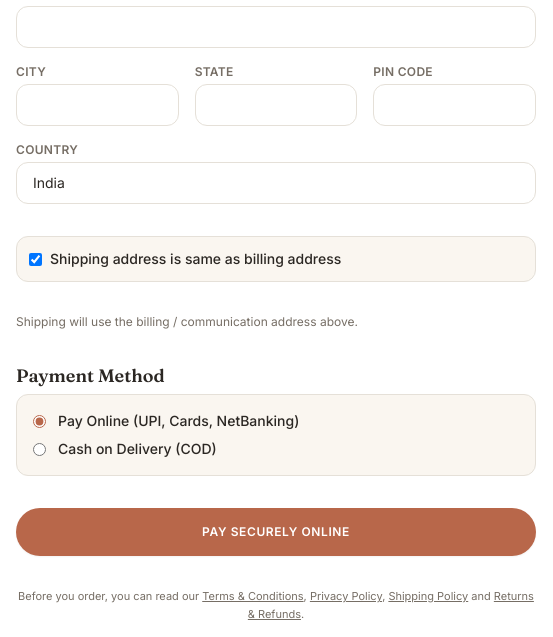
CheckoutPage › shows a validation summary and focuses the first invalid field instead of doing nothing
(page scrolled)
Click the button "Pay Securely Online": (276, 532) [16,508,536,556]
(page scrolled)
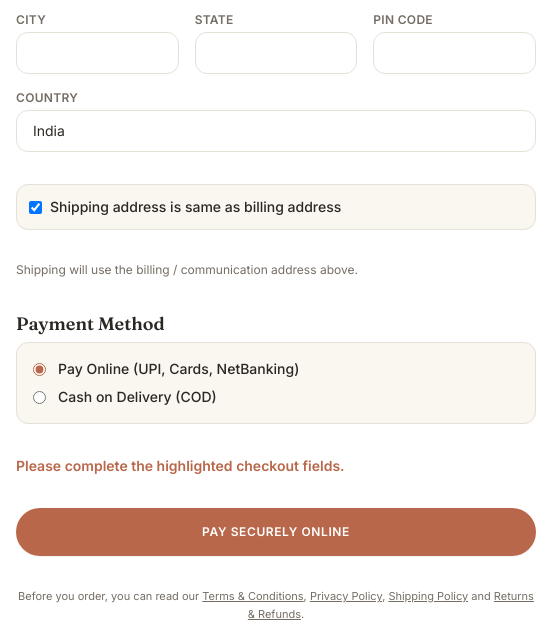
Expected: the text "Please complete the highlighted checkout fields." is shown, [16,457,344,474]
